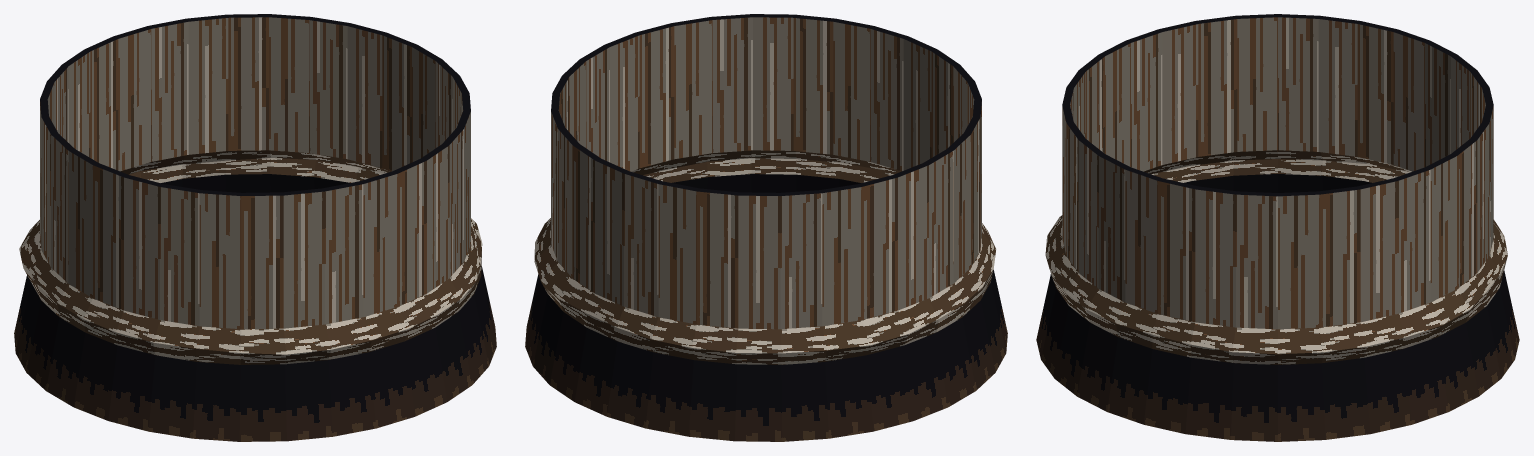
The model's file is TOR-03_Arranque_de_marea.gltf.
3 renders of one model, left to right at view 1: azimuth 30°, elevation 25°; view 2: azimuth 150°, elevation 25°; view 3: azimuth 270°, elevation 25°, orthographic.
Parts seen in each view (by area): view 1: TOR-03_Arranque_de_marea-col; view 2: TOR-03_Arranque_de_marea-col; view 3: TOR-03_Arranque_de_marea-col.
Boxes of the visible parts, x1,y1,x2,y2 form: TOR-03_Arranque_de_marea-col: (14,14,496,441); TOR-03_Arranque_de_marea-col: (525,14,1007,441); TOR-03_Arranque_de_marea-col: (1036,14,1519,441).
Bounding box in the file's own units: 5.6 × 3 × 5.6.
1 material, 1 textured.
